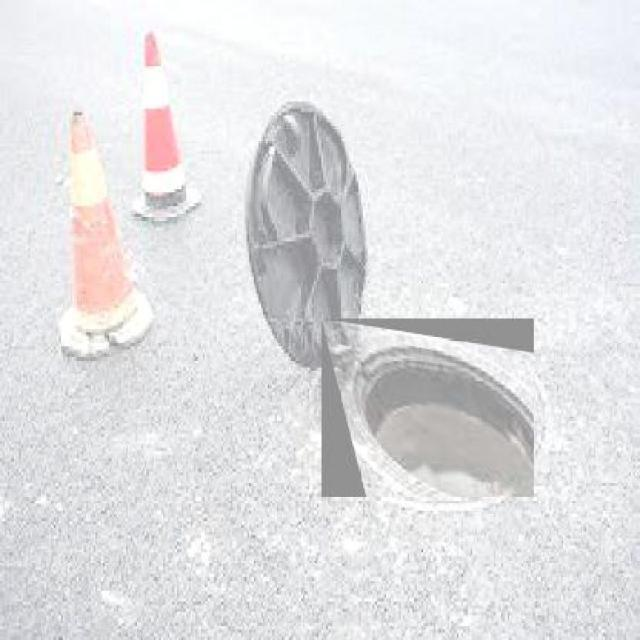Open Manhole: (321, 318, 534, 497)
